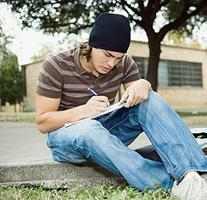person: (36, 13, 207, 200)
